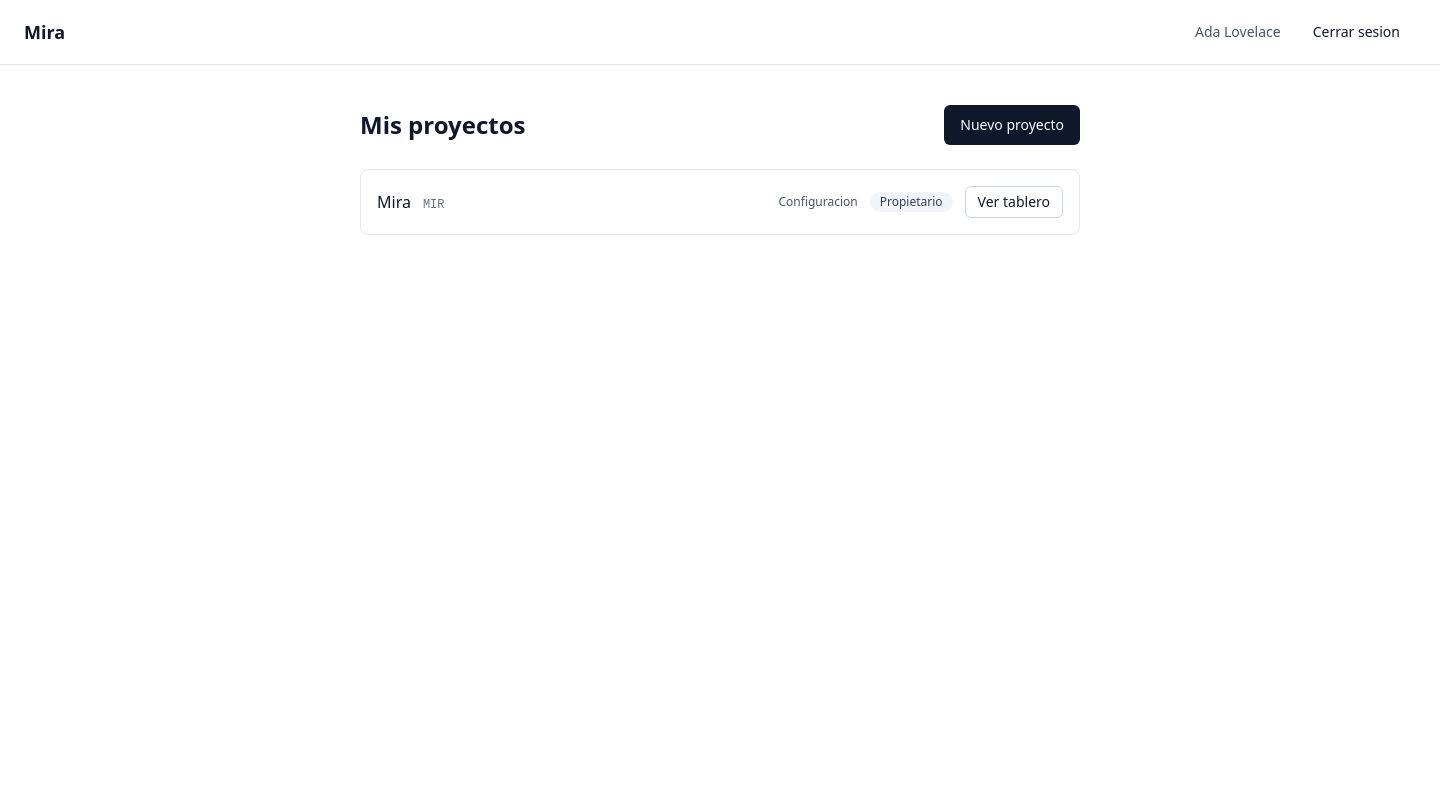
App › MIR-7: desde la lista, "Configuracion" abre la pagina del proyecto
Click the link with aria-label "Configuracion de Mira" at (818, 202), box [778,194,858,210]
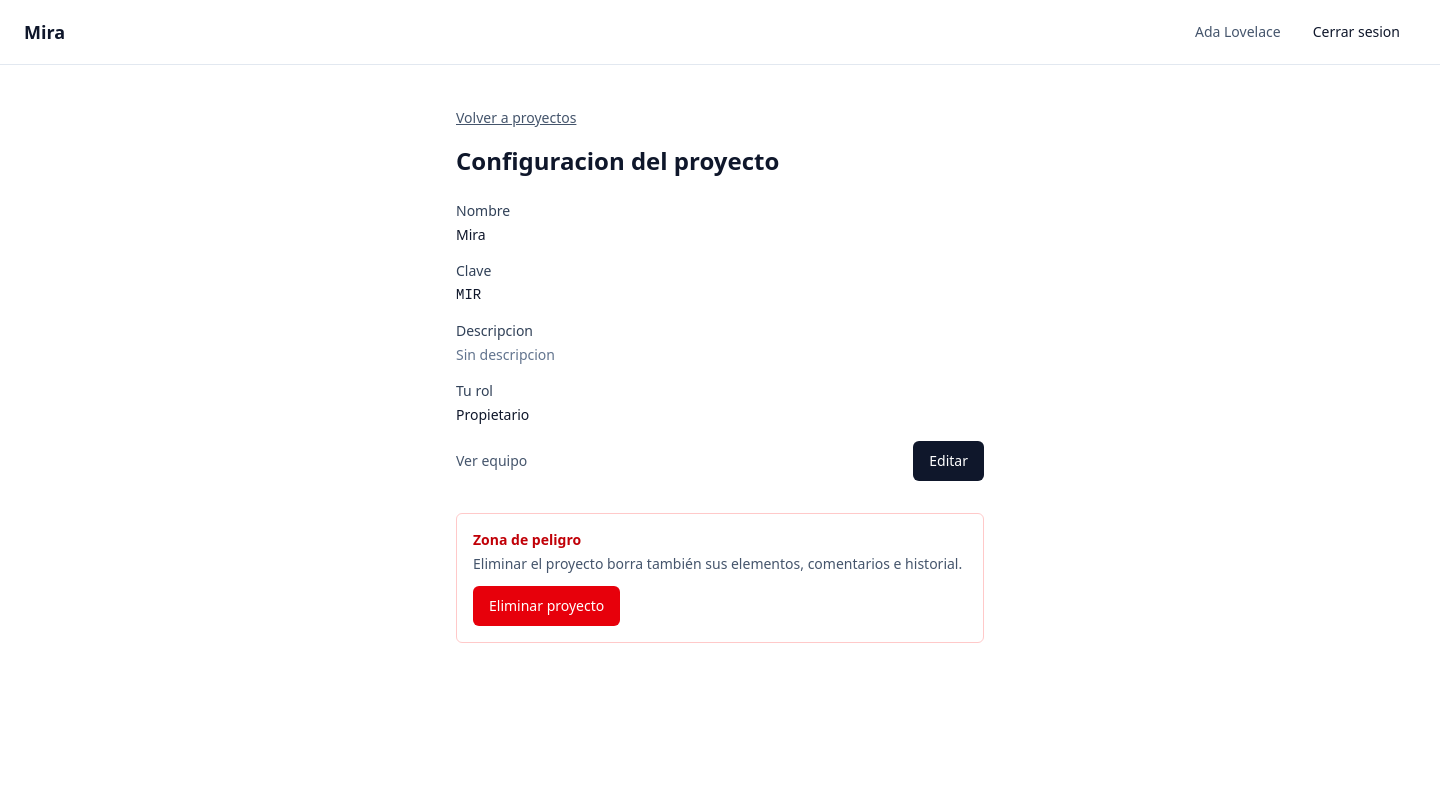
Check: the heading "Configuracion del proyecto" is shown, box [456,144,779,177]
Check: the button "Editar" is shown, box [913,441,984,481]
